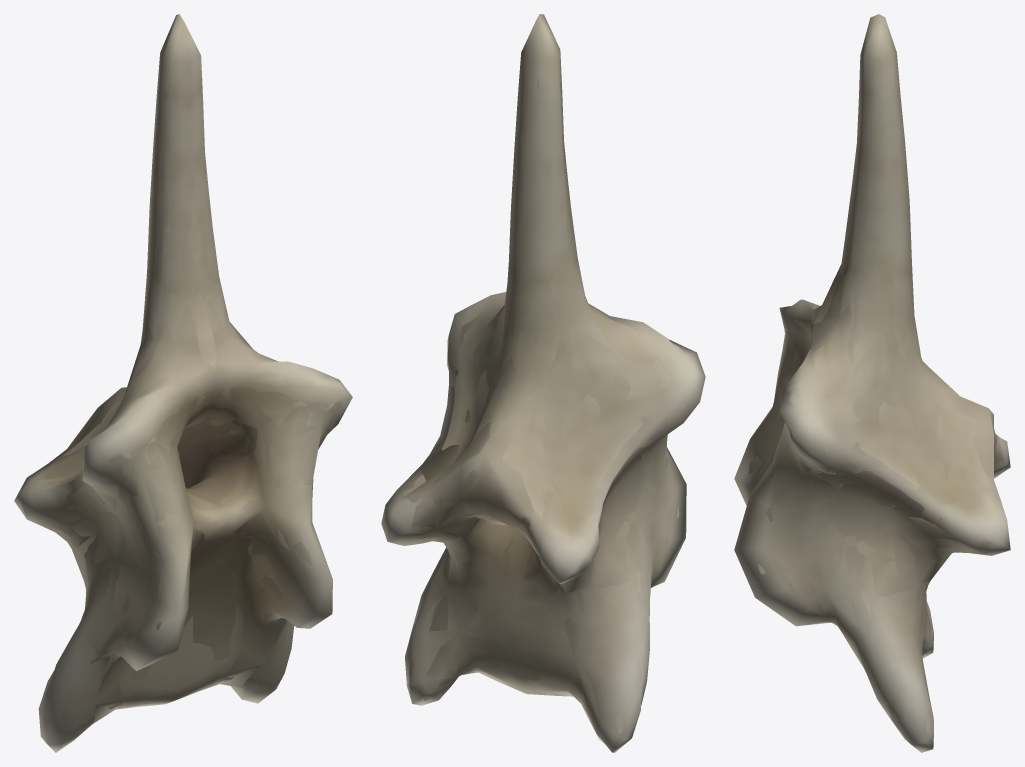
The model's file is vertebra cervicalis 6.fbx.
The picture shows the model from 3 angles, left to right: view 1: azimuth 30°, elevation 25°; view 2: azimuth 150°, elevation 25°; view 3: azimuth 270°, elevation 25°; orthographic projection. The views are drawn at different scales.
Visible parts, largest first — view 1: vertebra cervicalis 6, vertebra cervicalis 6 low, vertebra cervicalis 6 high; view 2: vertebra cervicalis 6, vertebra cervicalis 6 high, vertebra cervicalis 6 low; view 3: vertebra cervicalis 6, vertebra cervicalis 6 high, vertebra cervicalis 6 low.
Boxes of the visible parts, x1,y1,x2,y2 form: vertebra cervicalis 6: [14, 14, 352, 752]; vertebra cervicalis 6 low: [18, 192, 334, 723]; vertebra cervicalis 6 high: [20, 82, 342, 729]; vertebra cervicalis 6: [381, 14, 705, 752]; vertebra cervicalis 6 high: [403, 75, 685, 733]; vertebra cervicalis 6 low: [401, 173, 670, 723]; vertebra cervicalis 6: [734, 14, 1010, 752]; vertebra cervicalis 6 high: [748, 73, 999, 733]; vertebra cervicalis 6 low: [763, 179, 1004, 712].
Bounding box in the file's own units: 1.07 × 2.83 × 1.02.
1 material, 1 textured.
